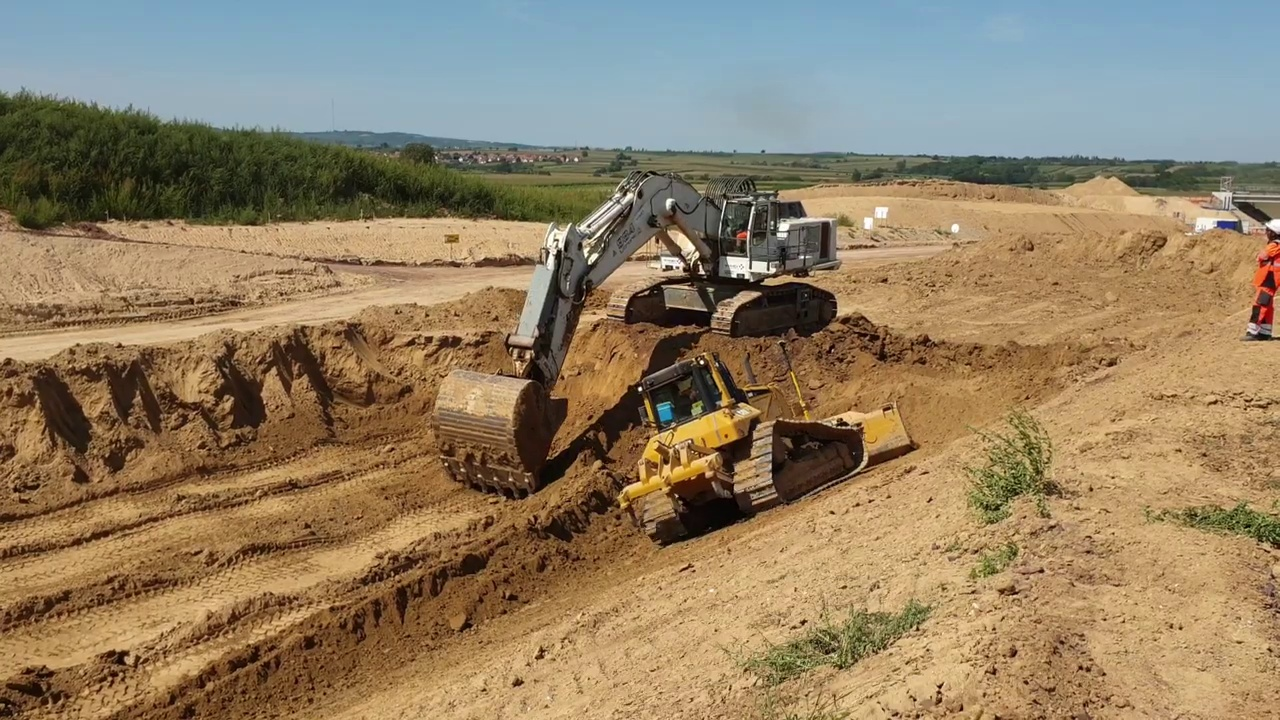bulldozer: (614, 338, 921, 550)
excavator: (430, 168, 840, 496)
worker: (1245, 212, 1280, 342)
